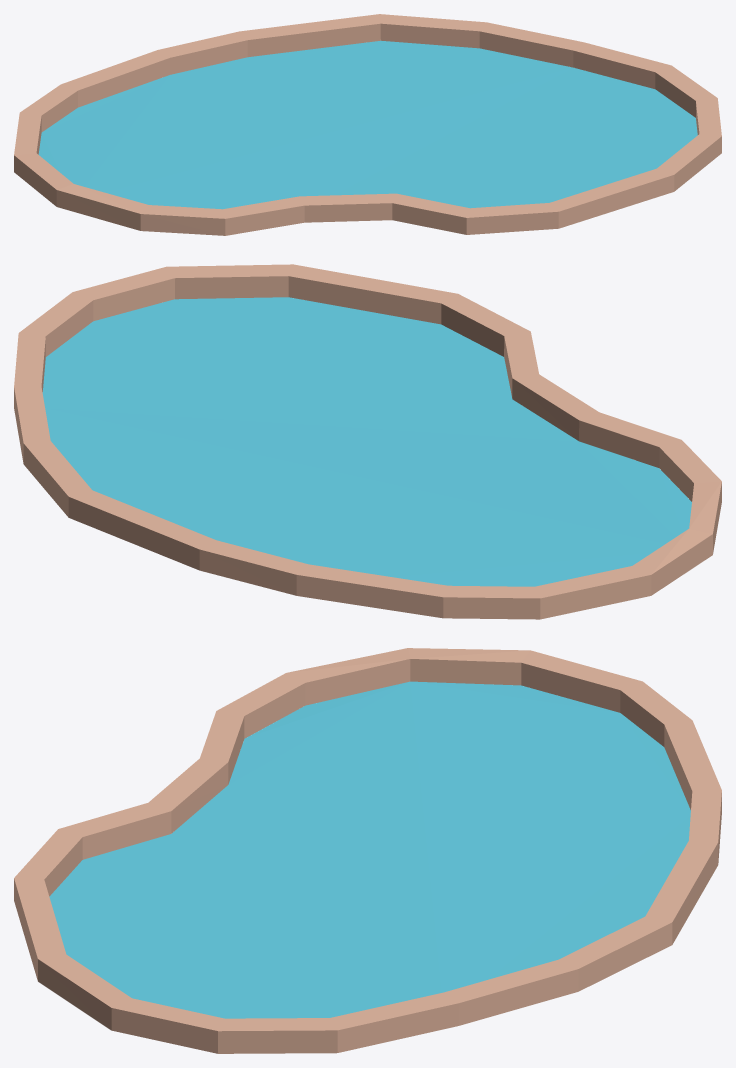
File: lake.glb
The picture shows the model from 3 angles, top to bottom: view 1: azimuth 30°, elevation 25°; view 2: azimuth 150°, elevation 25°; view 3: azimuth 270°, elevation 25°; orthographic projection. The views are drawn at different scales.
Visible parts, largest first — view 1: Vert; view 2: Vert; view 3: Vert.
Part boxes in pixels (x1,y1,x2,y2): Vert: (14, 14, 721, 235); Vert: (14, 264, 721, 619); Vert: (14, 648, 721, 1053).
Bounding box in the file's own units: 8.05 × 0.233 × 6.29.
